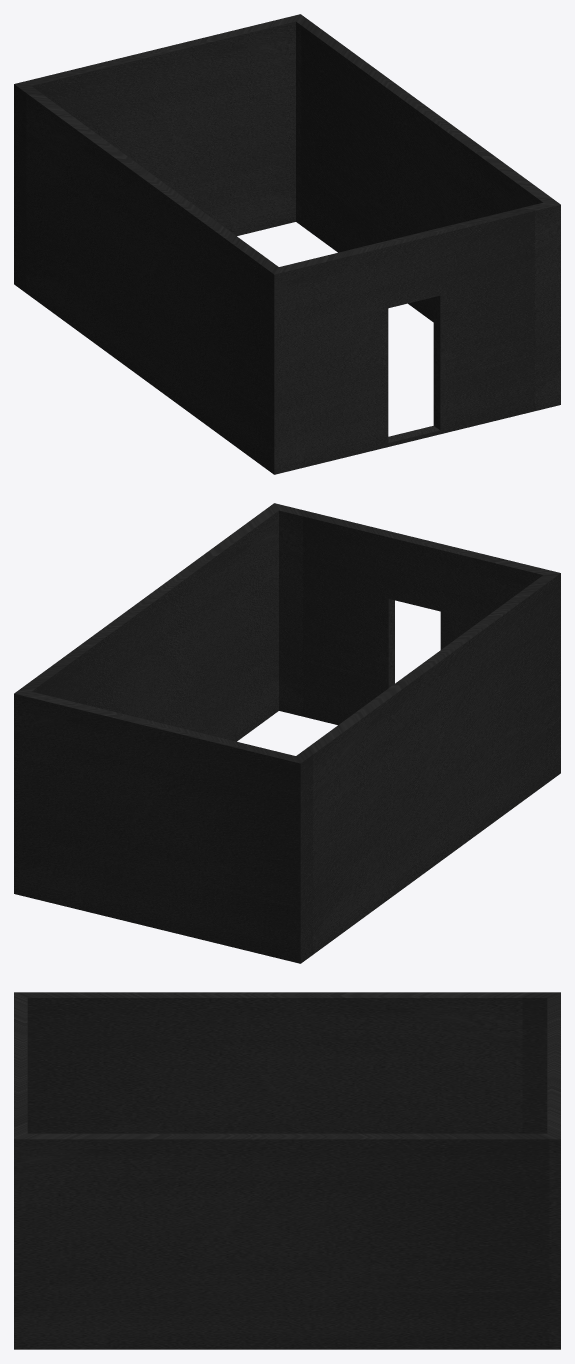
File: walls.obj
3 views of the same model, one above another, from view 1: azimuth 30°, elevation 25°; view 2: azimuth 150°, elevation 25°; view 3: azimuth 270°, elevation 25° (orthographic). The views are drawn at different scales.
Visible parts, largest first — view 1: walls; view 2: walls; view 3: walls.
Boxes of the visible parts, x1,y1,x2,y2 form: walls: (14, 14, 560, 474); walls: (14, 503, 560, 963); walls: (14, 992, 560, 1349).
Bounding box in the file's own units: 4.41 × 2.94 × 6.94.
Materials: 1 (1 with a texture image).
